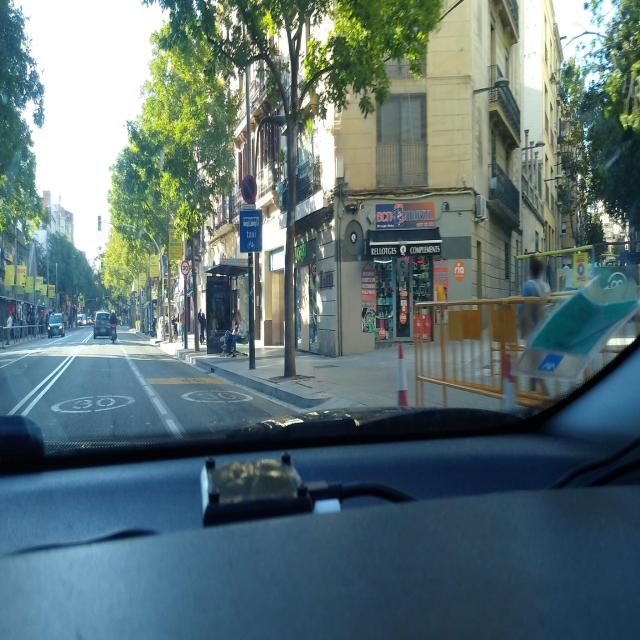bike: (109, 323, 118, 344)
car: (92, 309, 116, 342), (47, 312, 65, 338)
